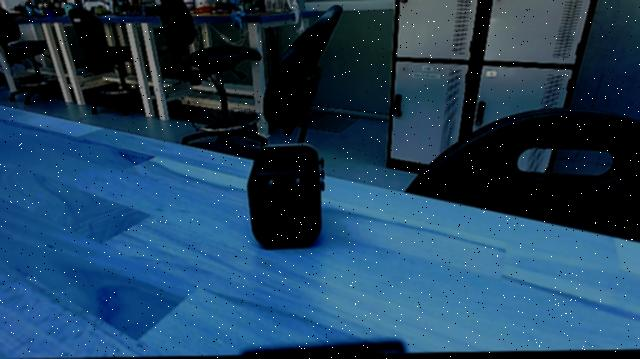adapter: (242, 135, 326, 258)
